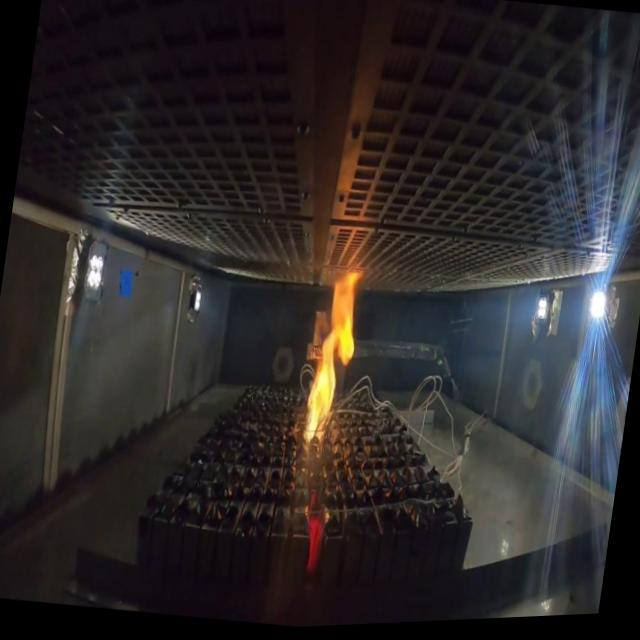fire: (300, 268, 367, 449)
